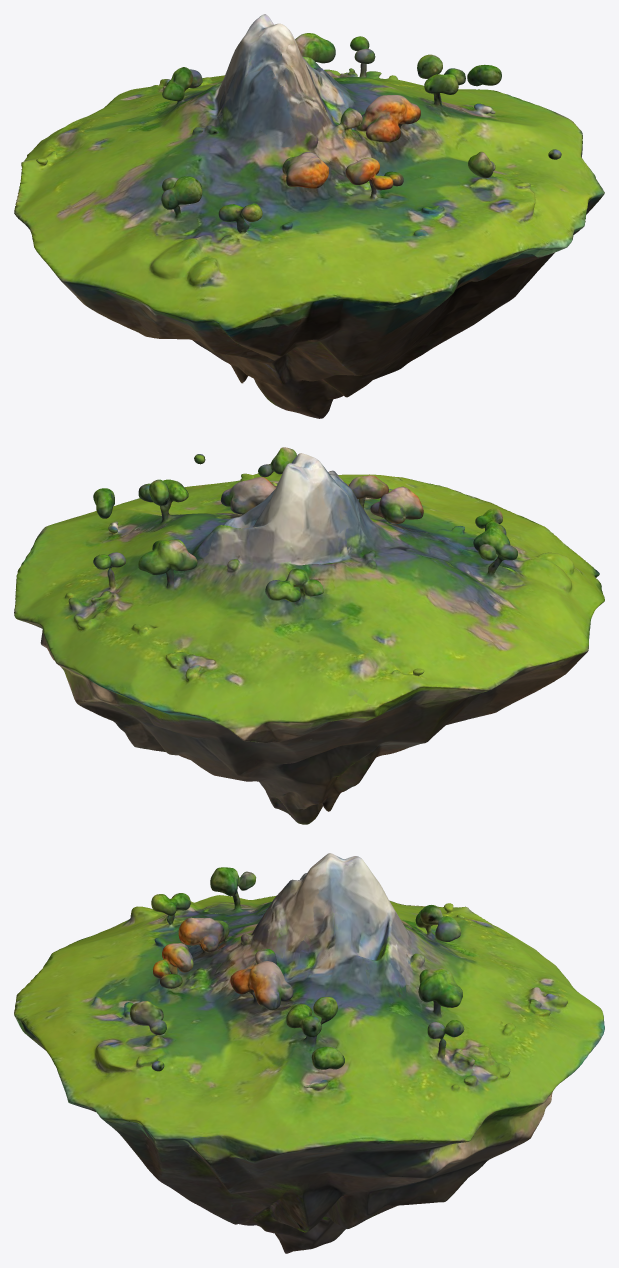
The model's file is Magical_floating_isla.glb.
3 views of the same model, one above another, from view 1: azimuth 30°, elevation 25°; view 2: azimuth 150°, elevation 25°; view 3: azimuth 270°, elevation 25° (orthographic). The views are drawn at different scales.
Visible parts, largest first — view 1: Magical_floating_isla; view 2: Magical_floating_isla; view 3: Magical_floating_isla.
Boxes of the visible parts, bbox=[...] form: Magical_floating_isla: bbox=[14, 14, 604, 418]; Magical_floating_isla: bbox=[14, 447, 604, 824]; Magical_floating_isla: bbox=[14, 853, 604, 1253].
Size of the model in its own units: 1.99 by 1.36 by 1.89.
Materials: 1 (1 with a texture image).
